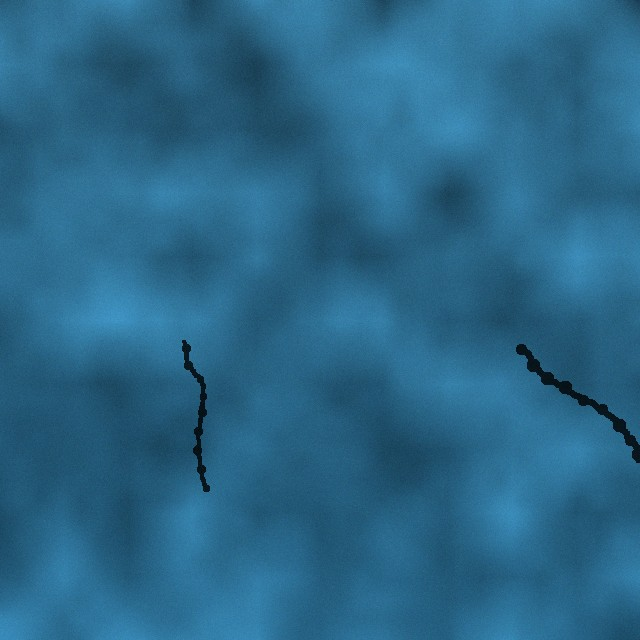crack: (515, 343, 639, 467), (180, 337, 210, 492)
